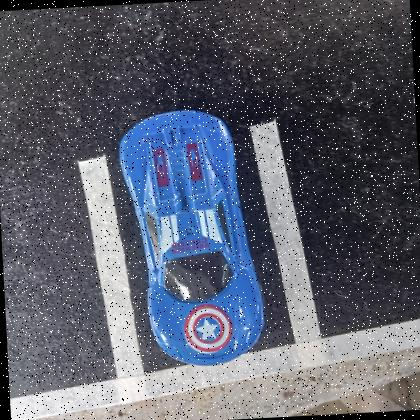Car: (118, 107, 264, 365)
